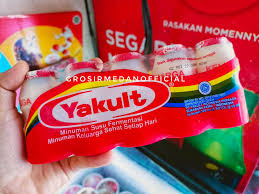Yakult (325ml): (5, 81, 235, 178)
